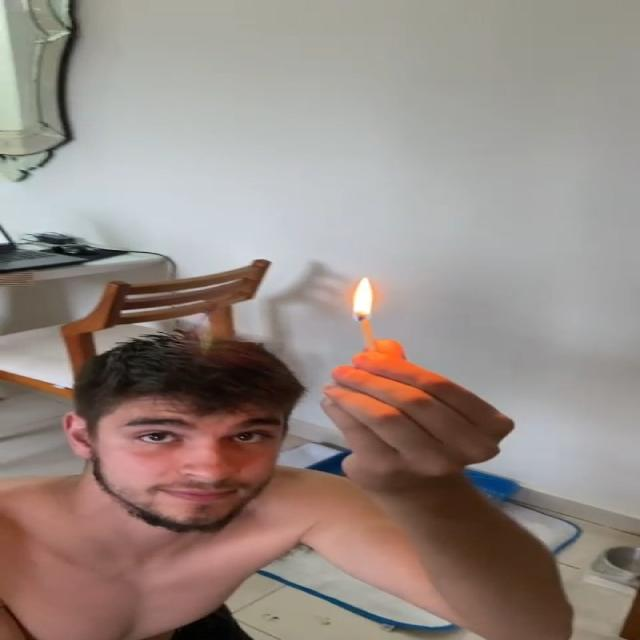fogo-ypXI: (351, 276, 374, 323)
